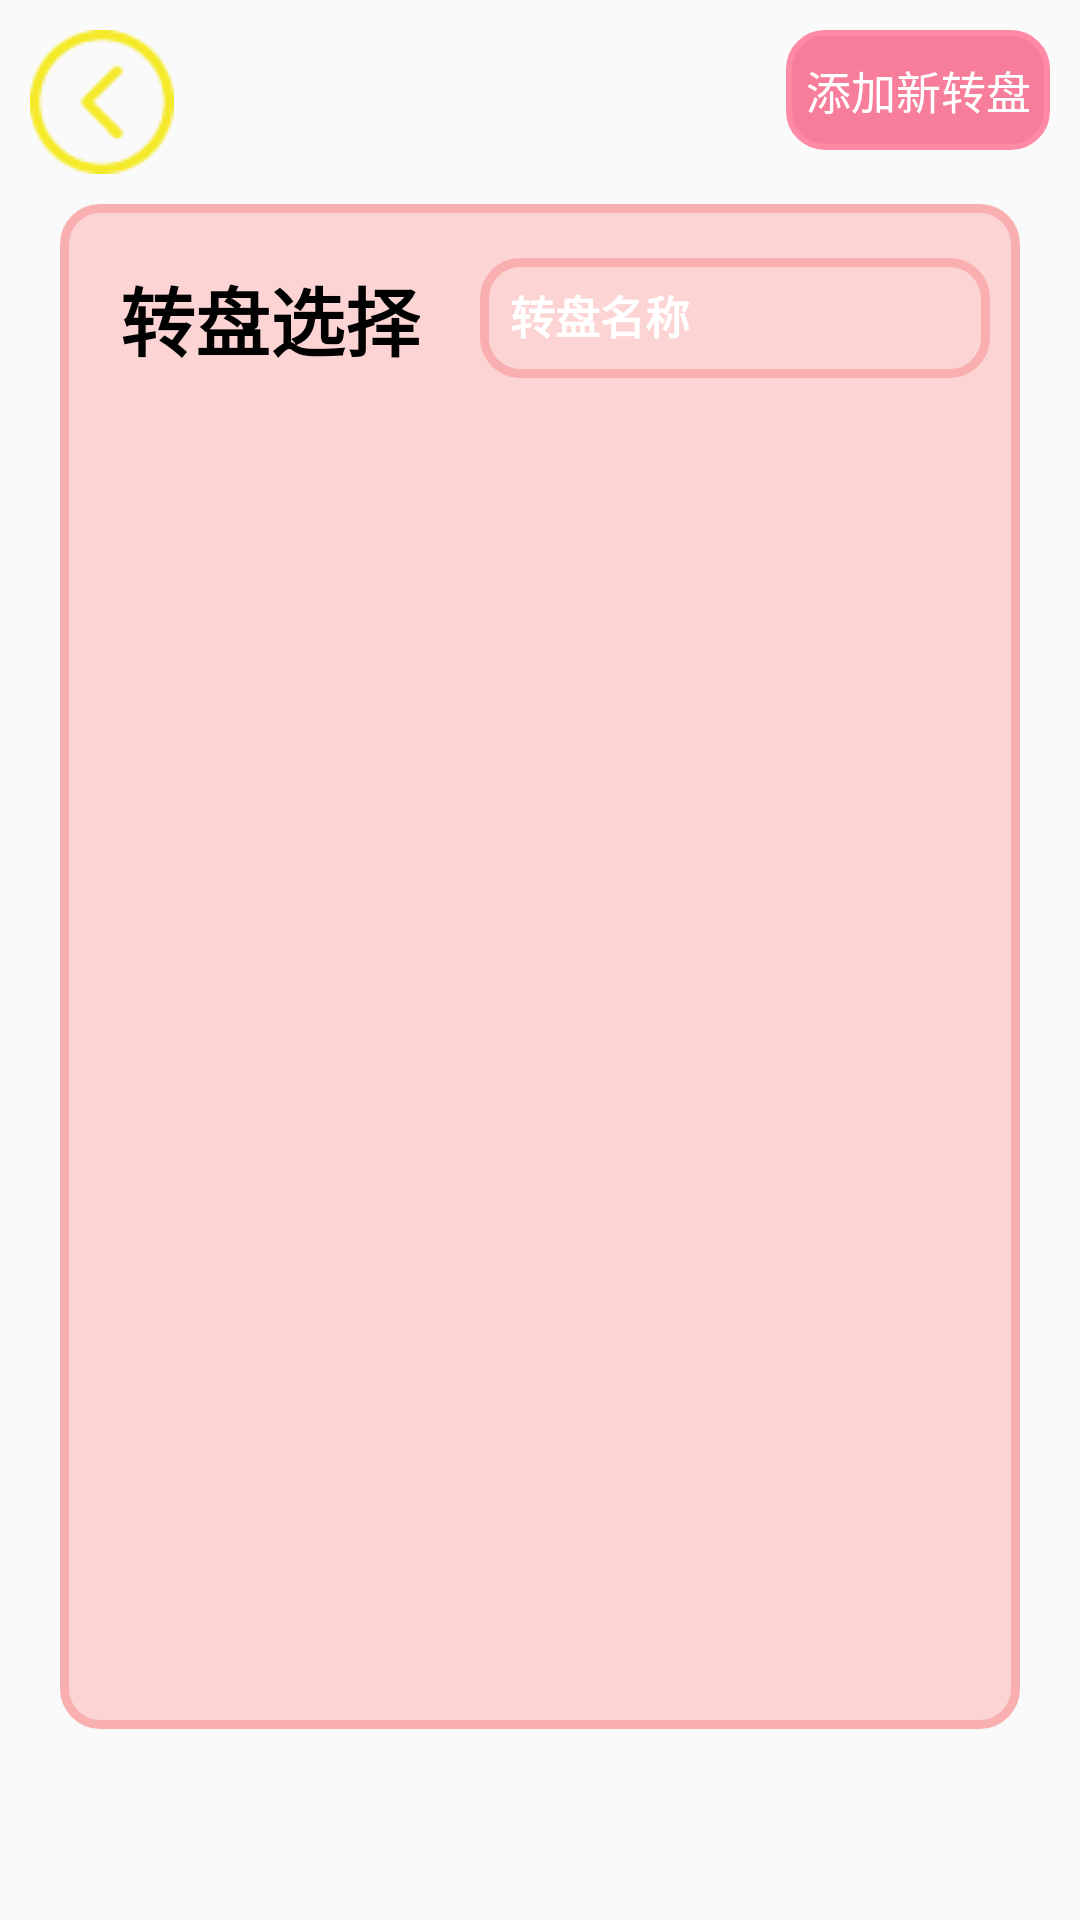

Where to tap for icons on this 1080w x 1920h app screen, as point (x, y):
back: point (102, 102)
